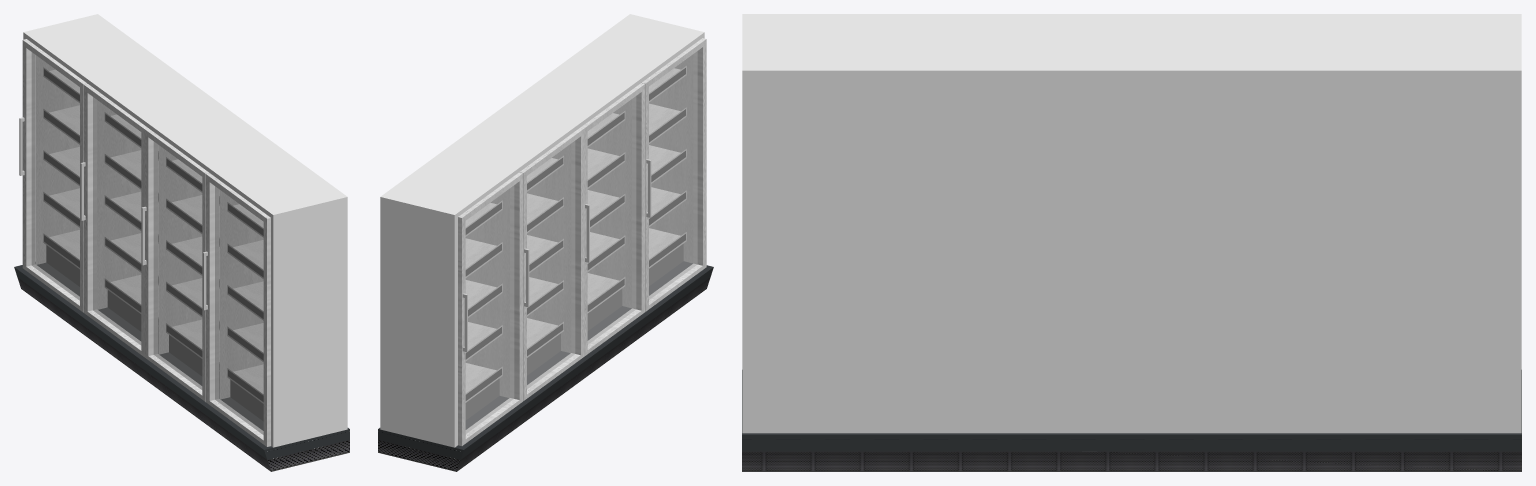
File: UprightRefrigerator.glb
The picture shows the model from 3 angles, left to right: view 1: azimuth 30°, elevation 25°; view 2: azimuth 150°, elevation 25°; view 3: azimuth 270°, elevation 25°; orthographic projection. The views are drawn at different scales.
Visible parts, largest first — view 1: UprightRefrigerator; view 2: UprightRefrigerator; view 3: UprightRefrigerator.
Part boxes in pixels (left/top/right/bottom): UprightRefrigerator: left=14, top=14, right=349, bottom=471; UprightRefrigerator: left=378, top=14, right=713, bottom=471; UprightRefrigerator: left=742, top=14, right=1521, bottom=471.
Bounding box in the file's own units: 0.8746 × 2.5 × 4.42.
Materials: 7 (2 with a texture image).
